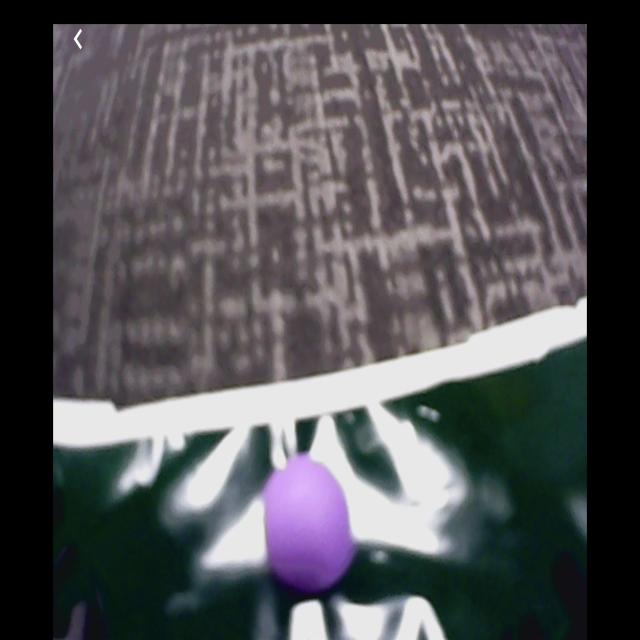ball: (266, 456, 347, 589)
